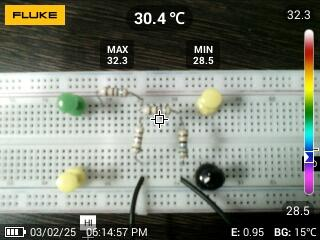resistor: (99, 84, 130, 99), (131, 123, 145, 156), (141, 104, 175, 116), (177, 127, 189, 160)
